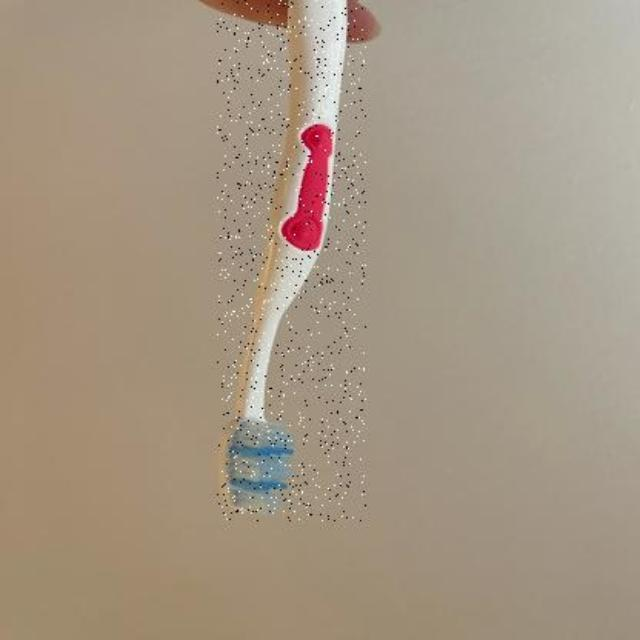toothbrush: (218, 1, 366, 522)
